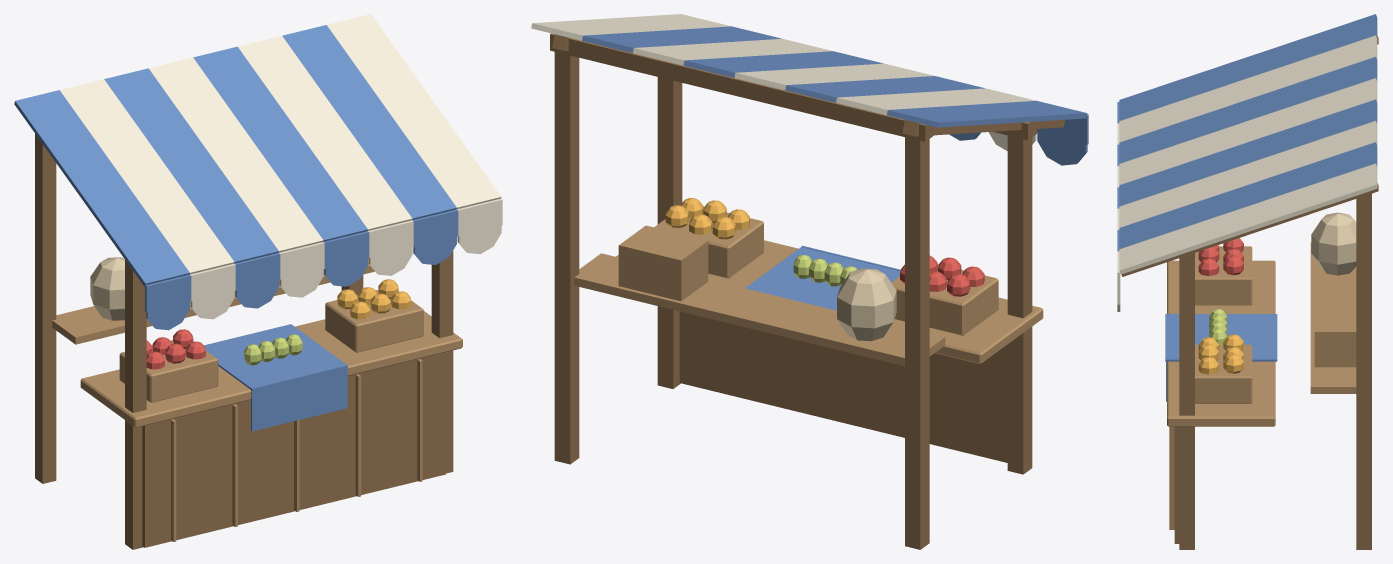
The model's file is market_stall_blue.glb.
3 views of the same model, side by side, from view 1: azimuth 30°, elevation 25°; view 2: azimuth 150°, elevation 25°; view 3: azimuth 270°, elevation 25° (orthographic). The views are drawn at different scales.
Parts seen in each view (by area): view 1: market_stall_blue; view 2: market_stall_blue; view 3: market_stall_blue.
Boxes of the visible parts, x1,y1,x2,y2 form: market_stall_blue: [14, 14, 502, 549]; market_stall_blue: [531, 14, 1088, 549]; market_stall_blue: [1117, 14, 1378, 549].
Size of the model in its own units: 2.6 by 2.65 by 1.68.
